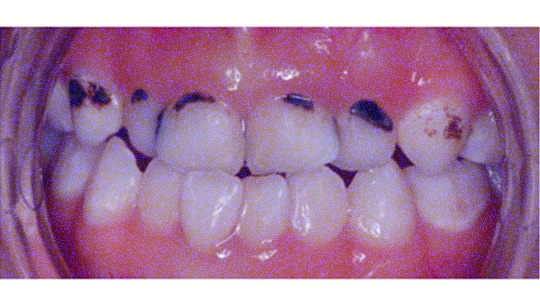karies: (64, 78, 116, 111), (349, 99, 393, 129), (172, 91, 216, 110), (281, 93, 314, 110), (129, 86, 150, 105)
